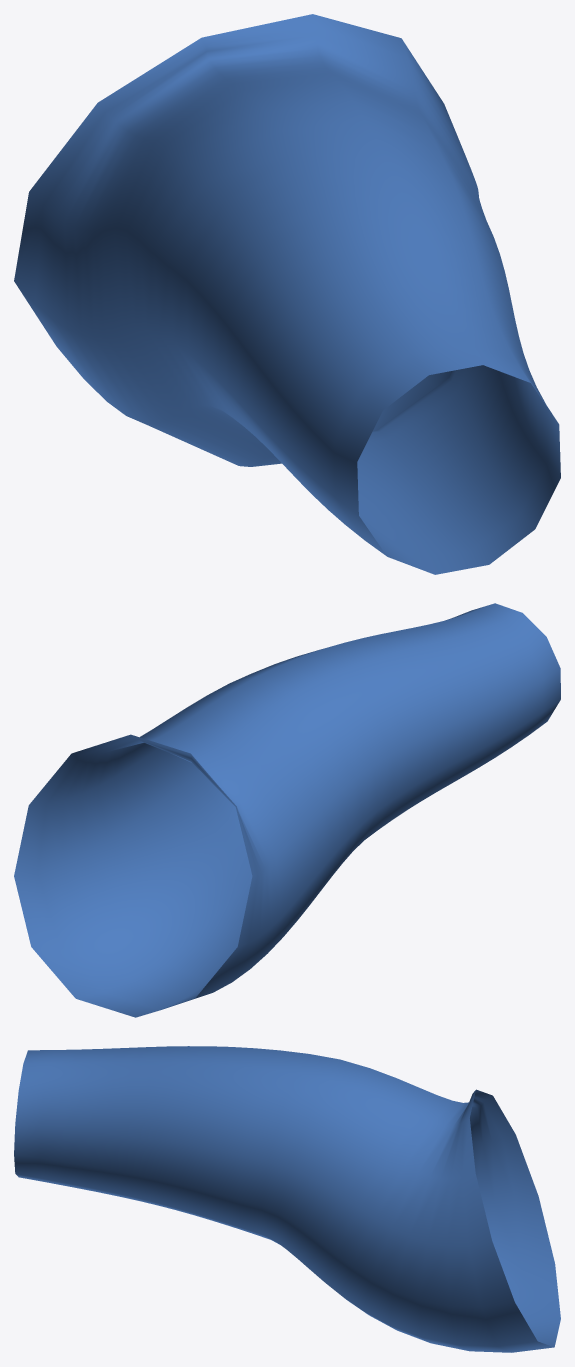
3 views of the same model, one above another, from view 1: azimuth 30°, elevation 25°; view 2: azimuth 150°, elevation 25°; view 3: azimuth 270°, elevation 25° (orthographic). The views are drawn at different scales.
Visible parts, largest first — view 1: 右头臂静脉; view 2: 右头臂静脉; view 3: 右头臂静脉.
Boxes of the visible parts, <box> form: 右头臂静脉: <box>14,14,560,574</box>; 右头臂静脉: <box>14,603,560,1017</box>; 右头臂静脉: <box>14,1046,560,1352</box>.
Bounding box in the file's own units: 0.0372 × 0.0315 × 0.0624.
